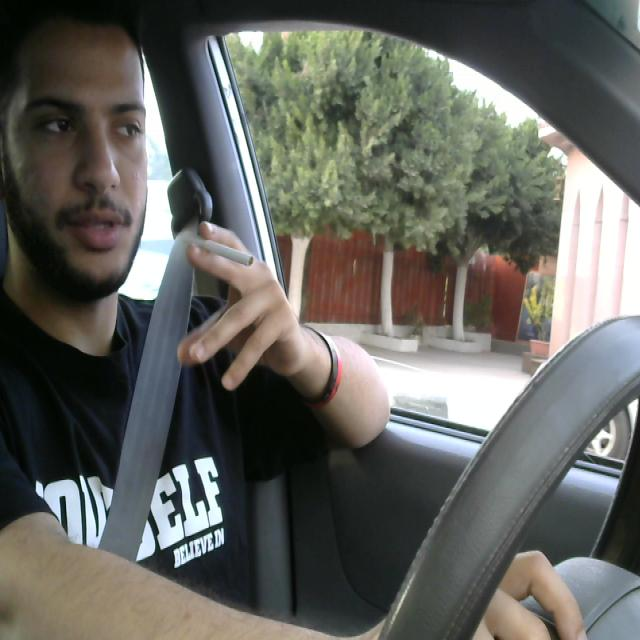smoking: (178, 231, 260, 277)
